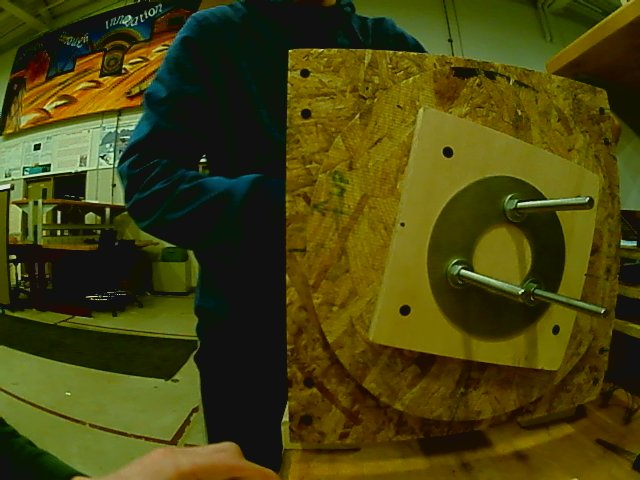bolt: (447, 256, 476, 293), (503, 189, 530, 228), (524, 278, 546, 309)
